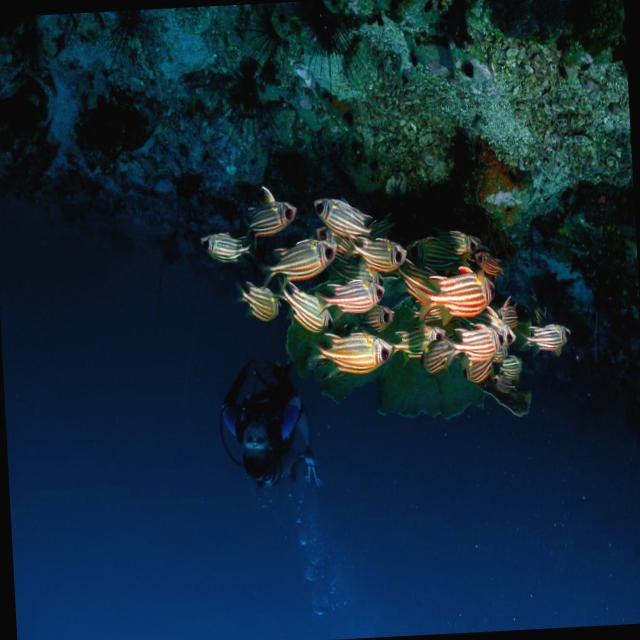Asker Baligi: (400, 262, 496, 321), (264, 230, 339, 286), (314, 326, 398, 372), (317, 270, 384, 315), (447, 322, 505, 366), (352, 232, 408, 272), (245, 198, 298, 240), (278, 285, 330, 326), (312, 196, 372, 229), (235, 279, 283, 320), (396, 318, 444, 358), (197, 227, 250, 262), (419, 334, 462, 374), (526, 318, 570, 353), (433, 227, 481, 259), (409, 236, 456, 266)
